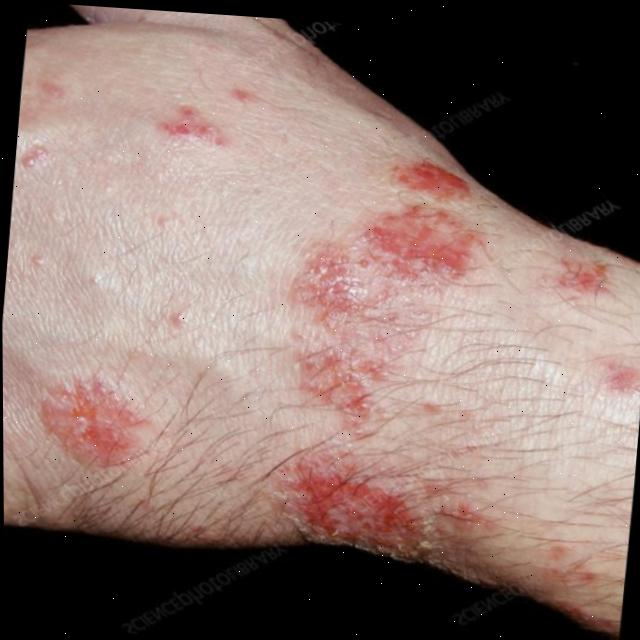Eczema: (260, 123, 640, 599), (30, 39, 259, 202), (14, 351, 153, 492)
